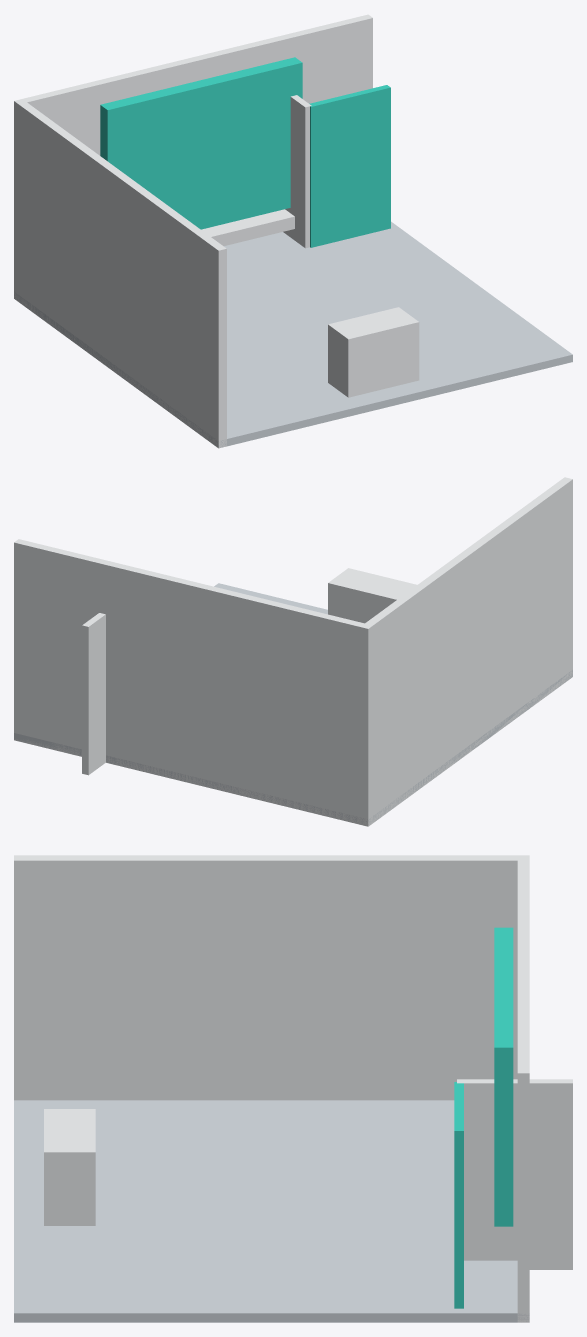
3 renders of one model, top to bottom at view 1: azimuth 30°, elevation 25°; view 2: azimuth 150°, elevation 25°; view 3: azimuth 270°, elevation 25°, orthographic. The views are drawn at different scales.
Visible parts, largest first — view 1: Exhibition Booth Concept; view 2: Exhibition Booth Concept; view 3: Exhibition Booth Concept.
Boxes of the visible parts, bbox=[...] form: Exhibition Booth Concept: bbox=[14, 14, 572, 448]; Exhibition Booth Concept: bbox=[14, 477, 572, 826]; Exhibition Booth Concept: bbox=[14, 855, 572, 1322].
Size of the model in its own units: 6 by 3.2 by 6.51.
